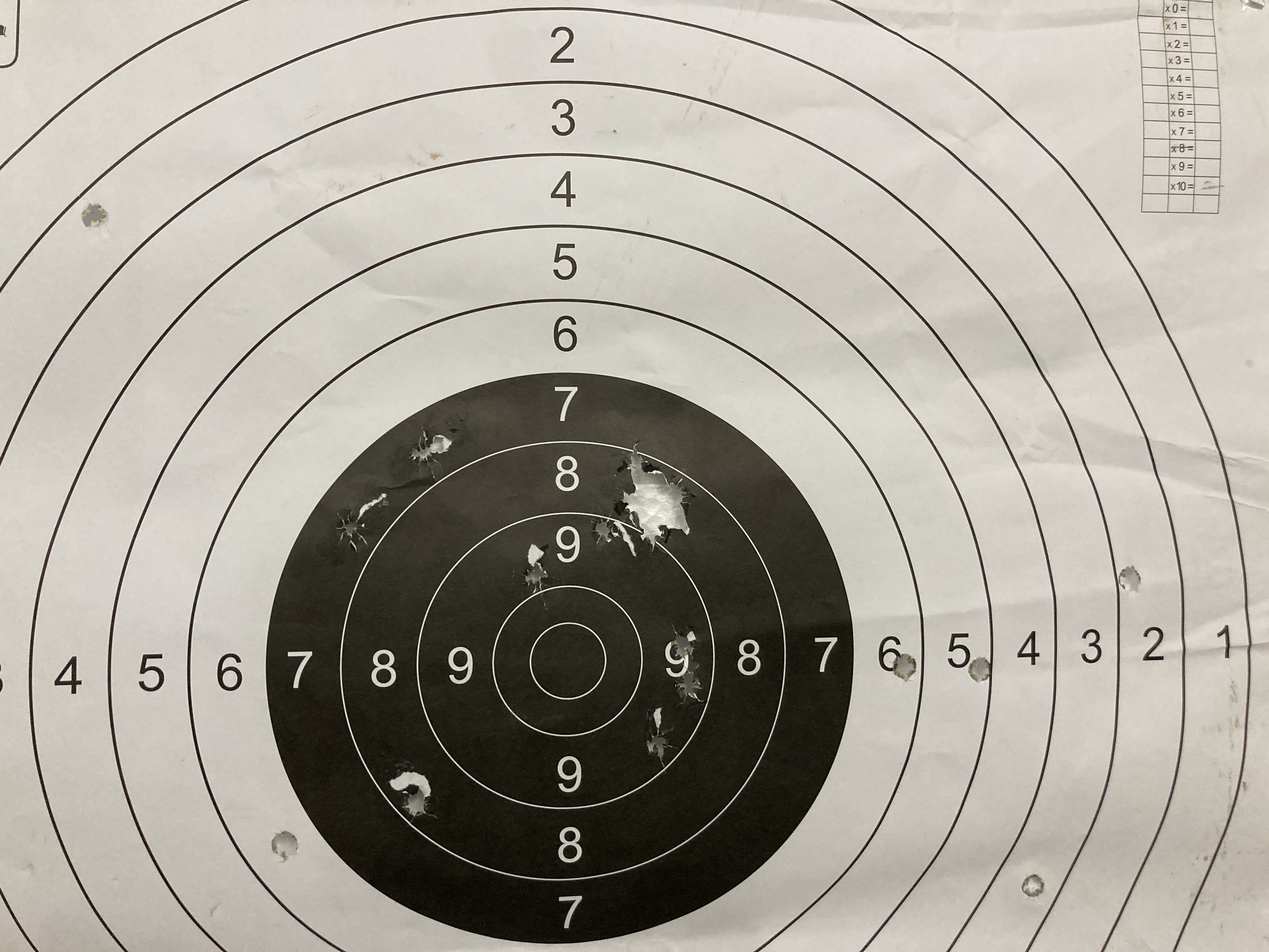hole: (614, 441, 689, 544), (388, 774, 447, 827), (1103, 551, 1158, 603), (400, 421, 457, 471), (327, 500, 380, 553), (662, 624, 713, 668), (69, 195, 114, 242), (583, 506, 626, 553), (264, 825, 311, 867), (636, 723, 683, 764), (512, 544, 555, 587), (1014, 869, 1059, 910), (957, 654, 1004, 691), (886, 644, 925, 687), (667, 668, 709, 701)
